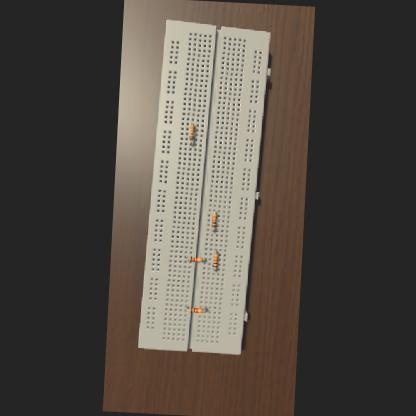breadboard: (136, 18, 272, 354)
resistor: (188, 124, 194, 138), (188, 256, 202, 262), (188, 306, 202, 312), (211, 212, 216, 226), (212, 252, 217, 266)
wire: (186, 304, 188, 308), (203, 305, 205, 309), (185, 255, 188, 257), (214, 249, 216, 252), (190, 139, 191, 144), (202, 257, 204, 259), (213, 209, 214, 212), (191, 122, 192, 124), (211, 227, 212, 229), (213, 268, 214, 270)
